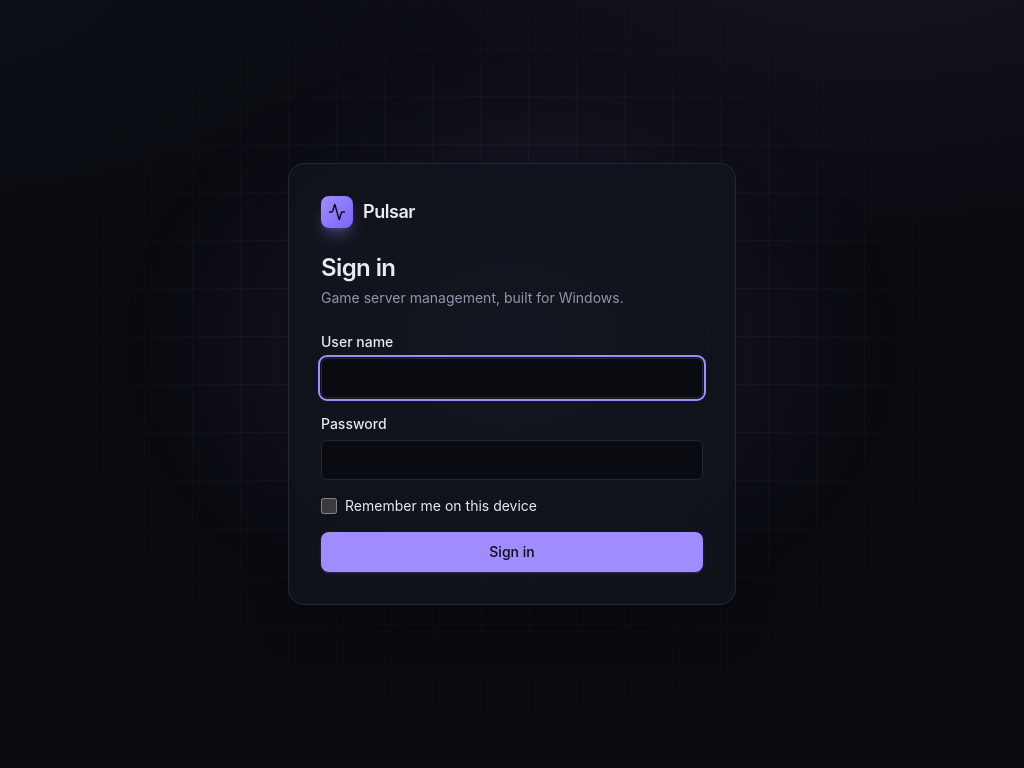
Test: login › goes back to the requested page after signing in
Type "admin" into the field labelled "User name". click: (512, 378)
box: [321,358,703,398]
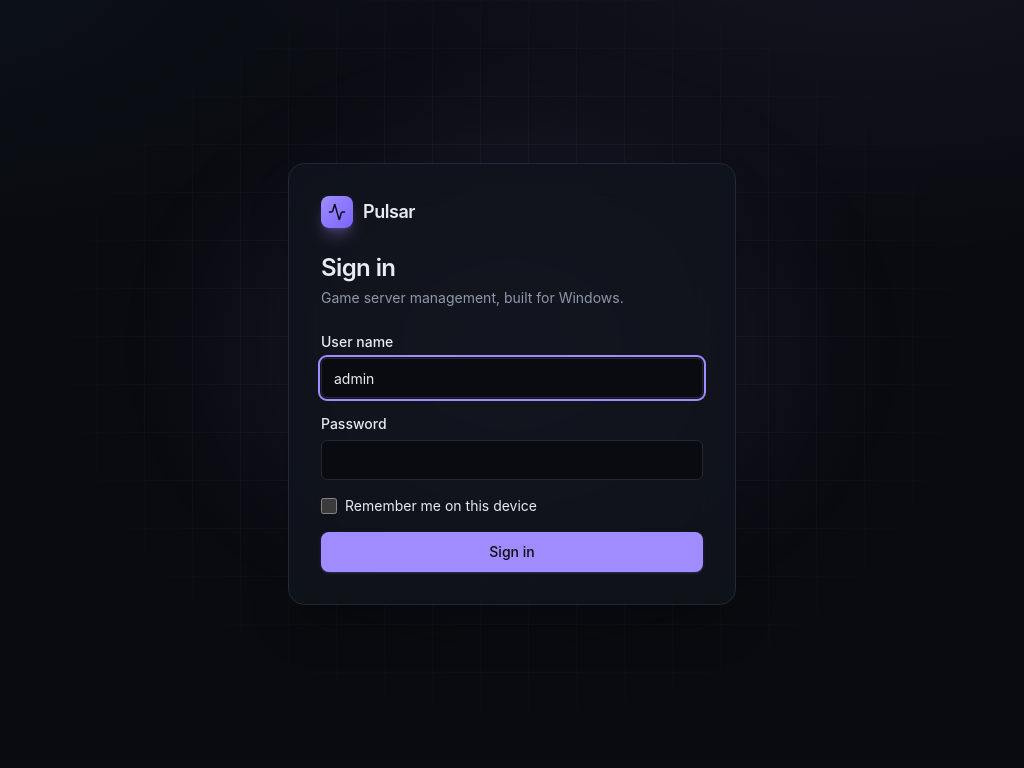
Type "correct horse battery staple" into the password field labelled "Password". click: (512, 460)
box: [321,440,703,480]
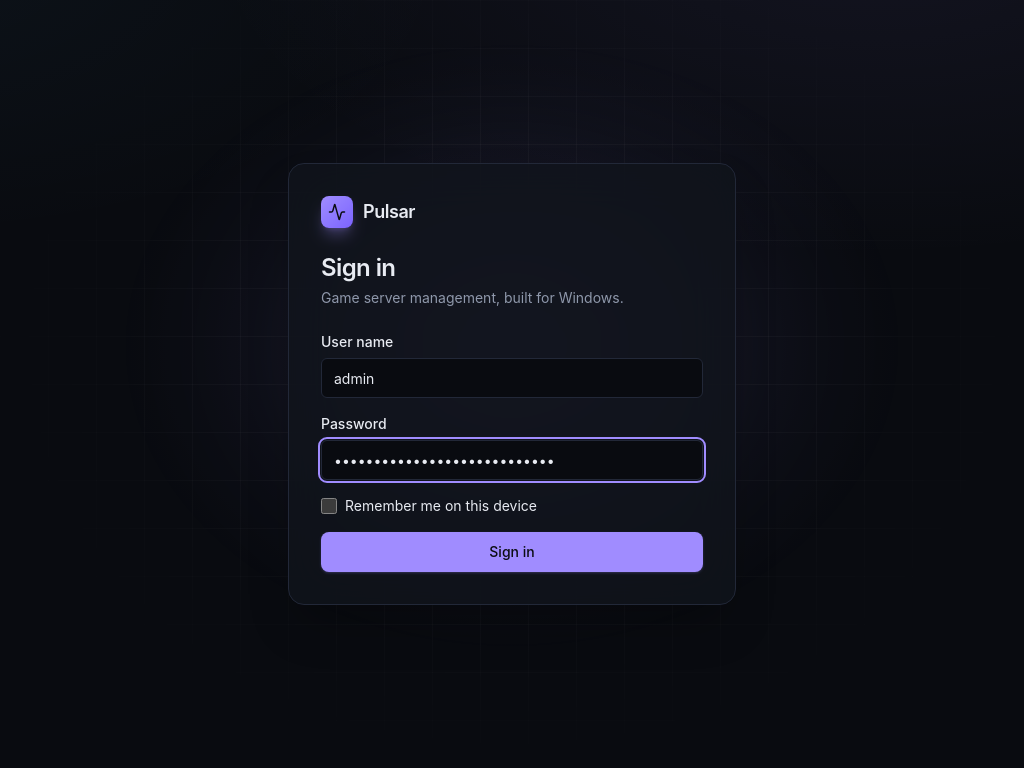
Click the button "Sign in". click: click(512, 552)
box: [321,532,703,572]
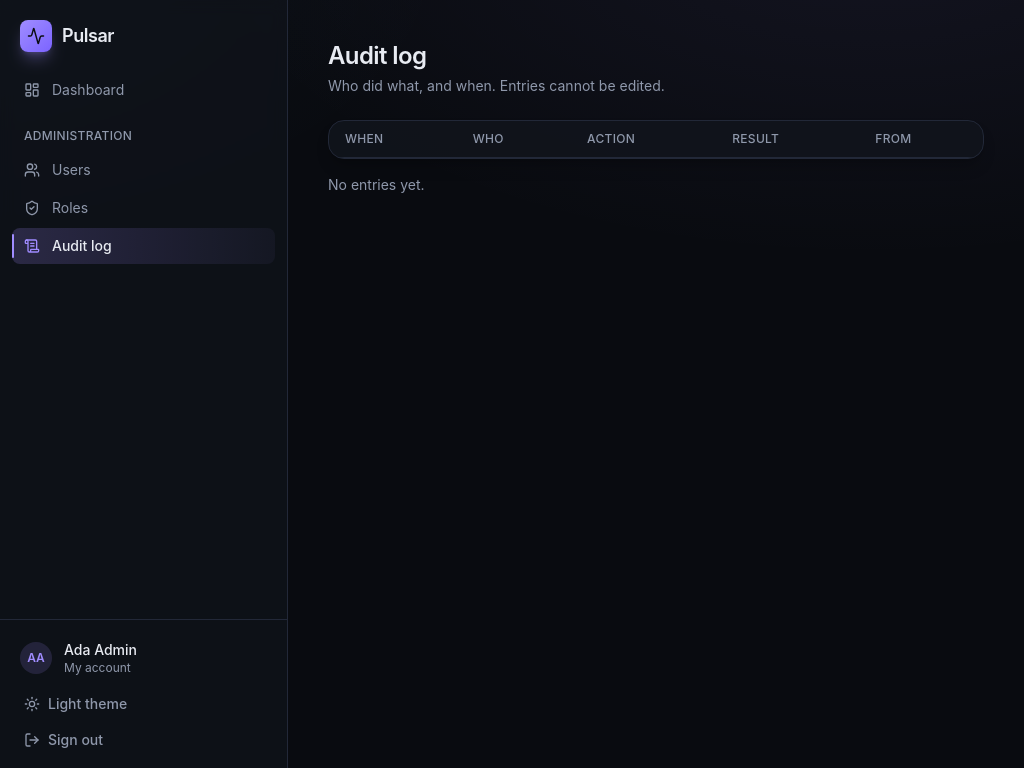
Expected: the heading "Audit log" is shown, [328,40,426,72]
